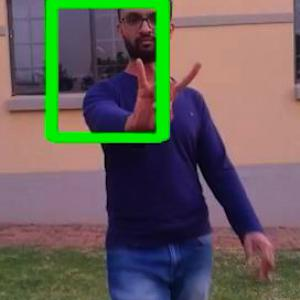takeoff-hand: (126, 49, 203, 139)
